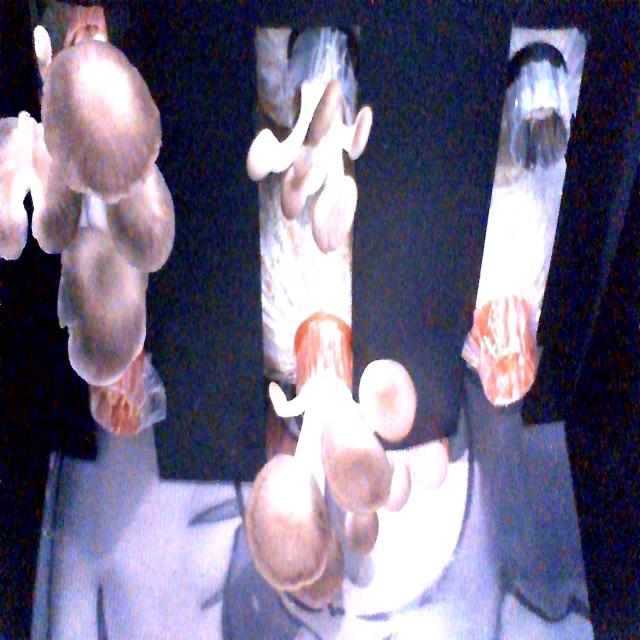big: (0, 20, 183, 376), (245, 317, 427, 618)
nfound: (510, 76, 584, 204), (474, 322, 554, 417), (81, 358, 159, 450)
small: (244, 72, 376, 256)
